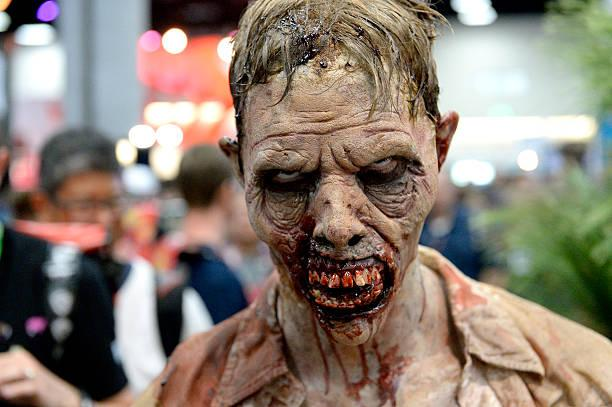Zombie: (236, 10, 454, 348)
